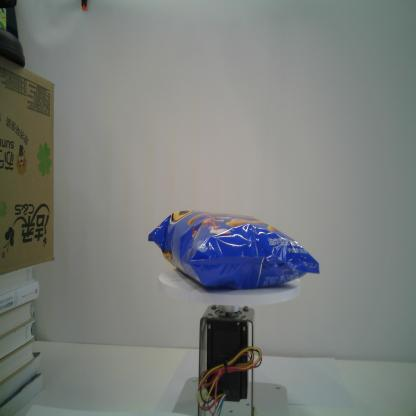Puffed Food: (147, 209, 321, 294)
